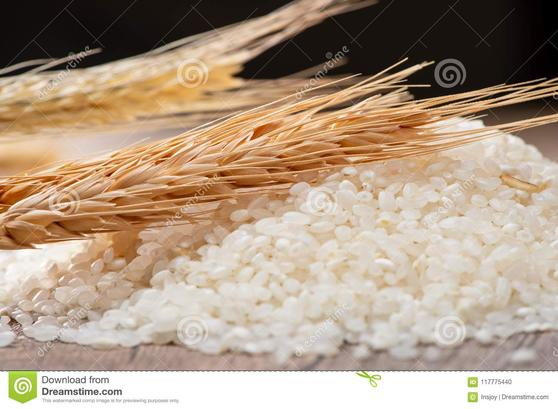rice: (301, 194, 544, 314)
